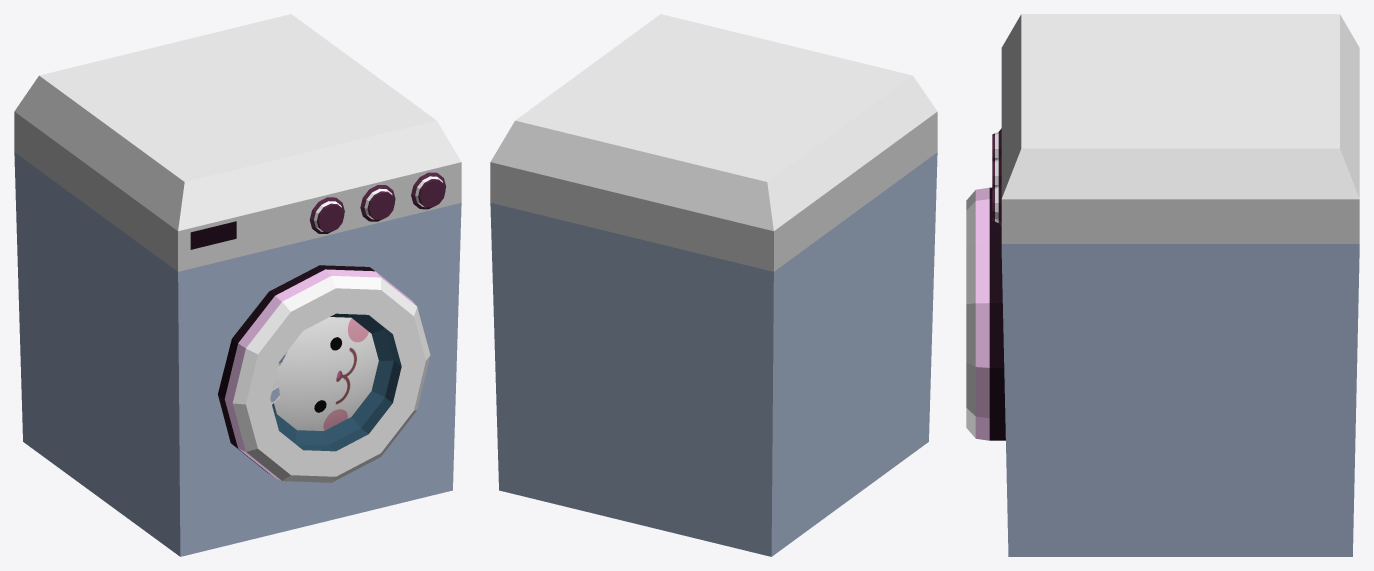
File: F_Pralka_01.fbx
3 views of the same model, side by side, from view 1: azimuth 30°, elevation 25°; view 2: azimuth 150°, elevation 25°; view 3: azimuth 270°, elevation 25° (orthographic). The views are drawn at different scales.
Parts seen in each view (by area): view 1: F_Pralka_01; view 2: F_Pralka_01; view 3: F_Pralka_01.
Part boxes in pixels (x1,y1,x2,y2): F_Pralka_01: (14, 14, 461, 556); F_Pralka_01: (490, 14, 937, 556); F_Pralka_01: (966, 14, 1359, 556).
Size of the model in its own units: 200 by 248 by 220.
